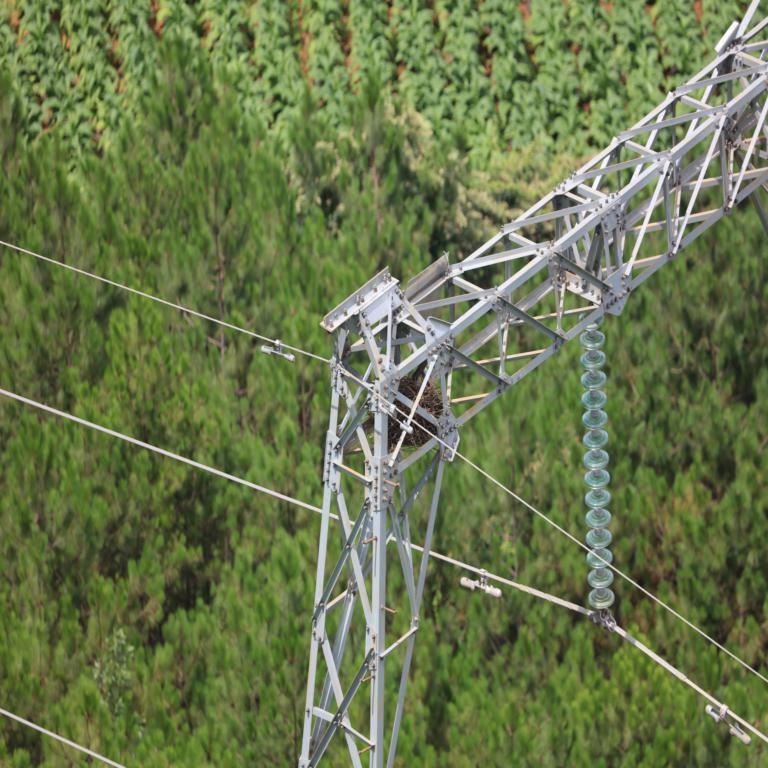nest: (369, 376, 448, 445)
